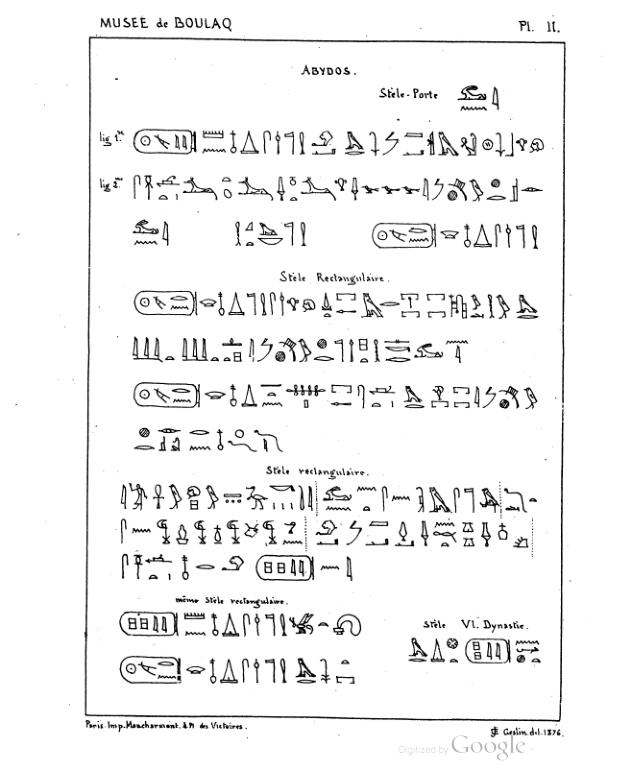circle: (116, 652, 186, 690), (128, 378, 204, 412), (368, 219, 441, 252), (252, 551, 318, 587), (130, 287, 200, 319), (131, 126, 199, 156), (116, 607, 181, 638), (462, 635, 513, 667)
